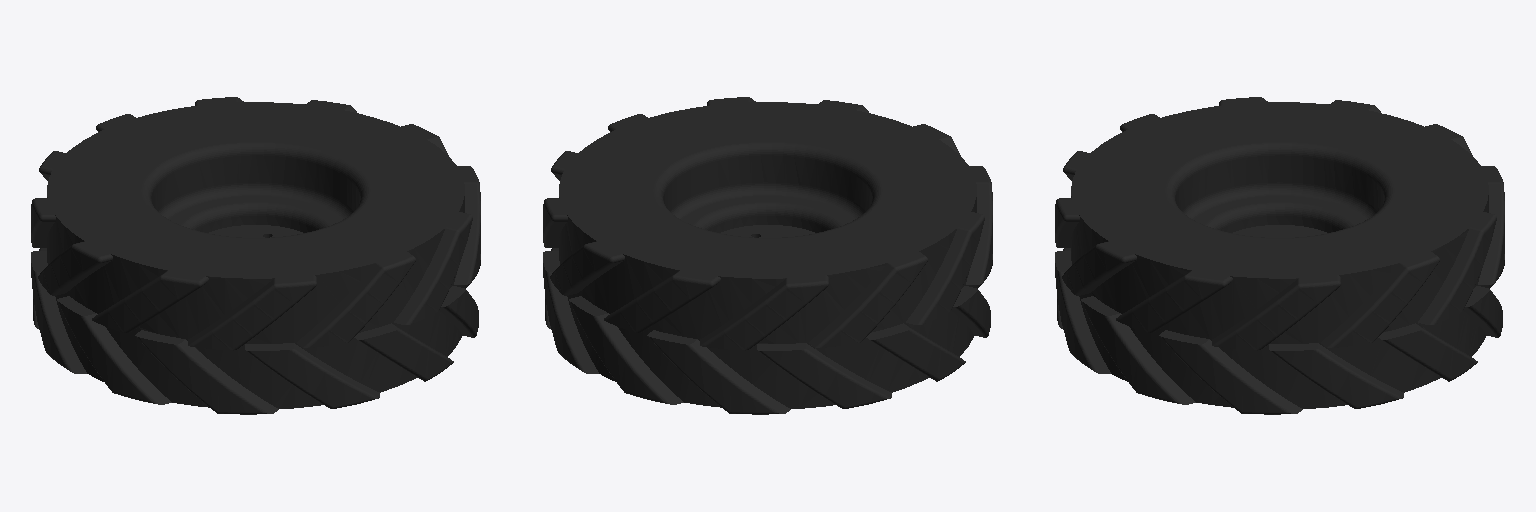
The model's file is wheel.obj.
3 views of the same model, side by side, from view 1: azimuth 30°, elevation 25°; view 2: azimuth 150°, elevation 25°; view 3: azimuth 270°, elevation 25° (orthographic).
Visible parts, largest first — view 1: Wheel; view 2: Wheel; view 3: Wheel.
Boxes of the visible parts, <box> form: Wheel: <box>31,97,480,414</box>; Wheel: <box>543,97,992,414</box>; Wheel: <box>1055,97,1504,414</box>.
Bounding box in the file's own units: 0.3556 × 0.1143 × 0.3556.